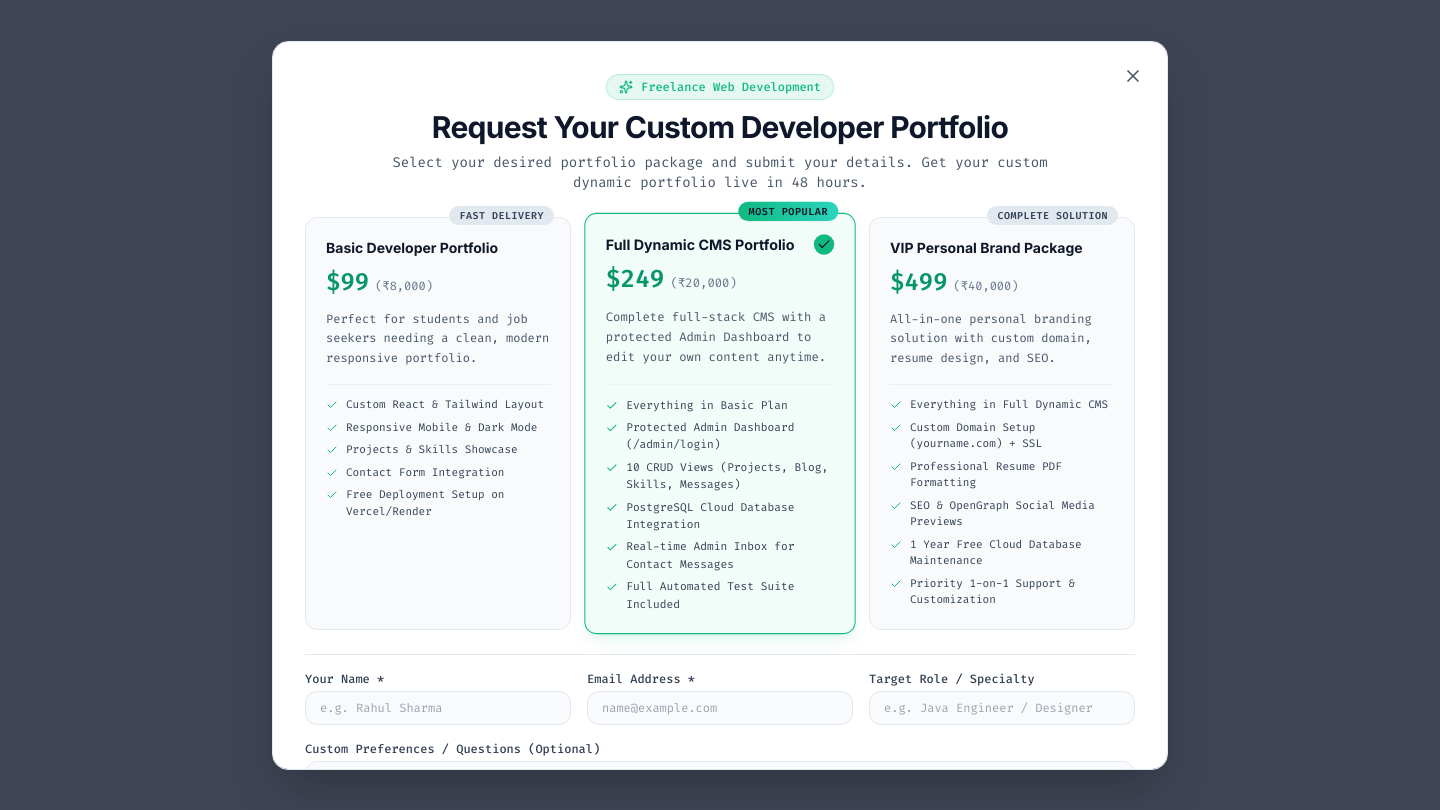
Scenario: Phase 6: Freelance Client Lead Generation & White-Label Config › 2. ClientInquiryModal — should render package options and handle form submission
Expected: the heading "Request Your Custom Developer Portfolio" is shown, [384,108,1056,144]
Expected: the heading "Full Dynamic CMS Portfolio" is shown, [606,234,794,254]
Type "Jane Freelancer" into the field with placeholder "e.g. Rahul Sharma" at (438, 708), box [305,690,571,724]
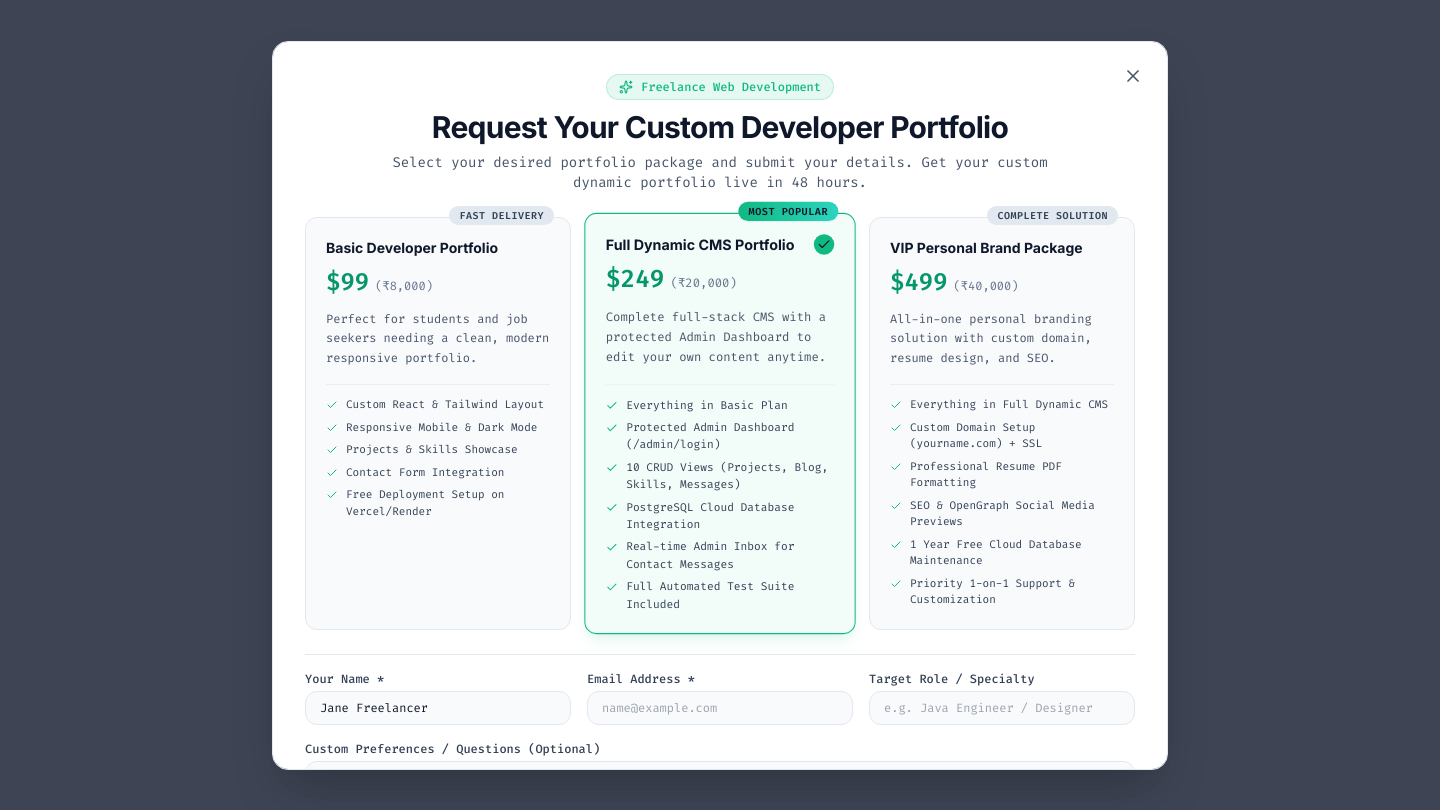
Type "jane@example.com" into the field with placeholder "name@example.com" at (720, 708), box [587,690,853,724]
(page scrolled)
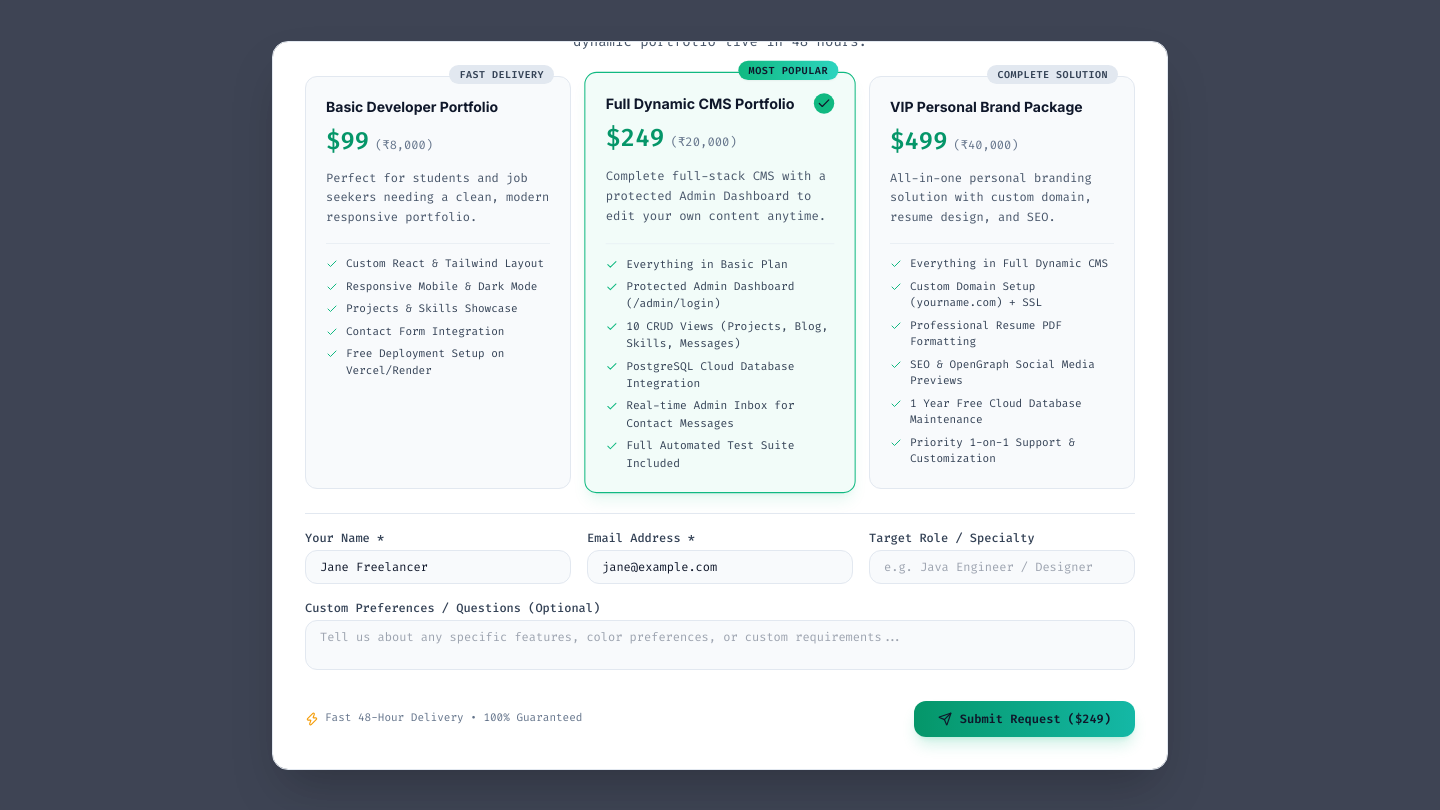
Click the button "Submit Request ($249)" at (1024, 718), box [914,700,1135,736]
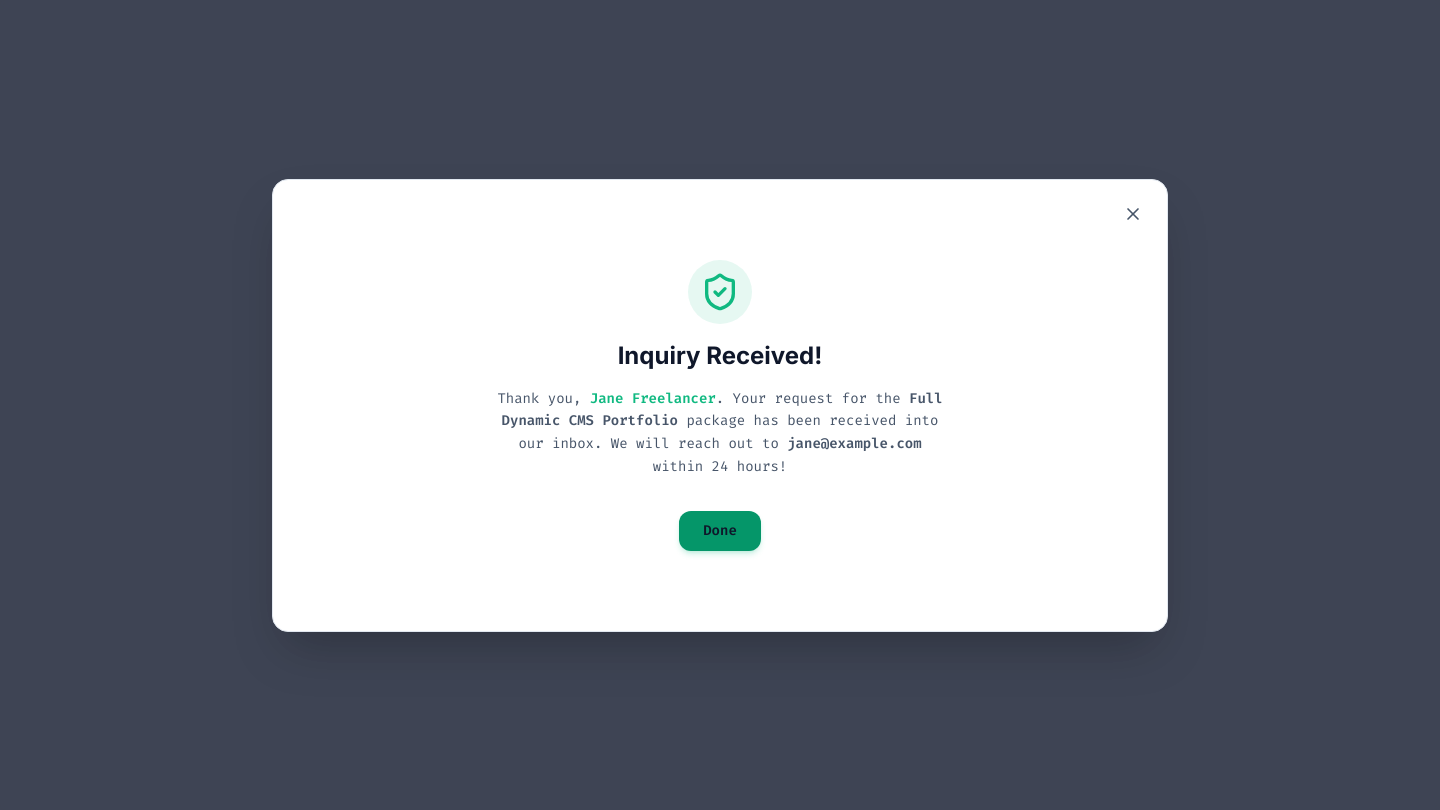
Expected: the heading "Inquiry Received!" is shown, [618,340,822,370]
Expected: the text "Jane Freelancer" is shown, [590,388,716,408]
